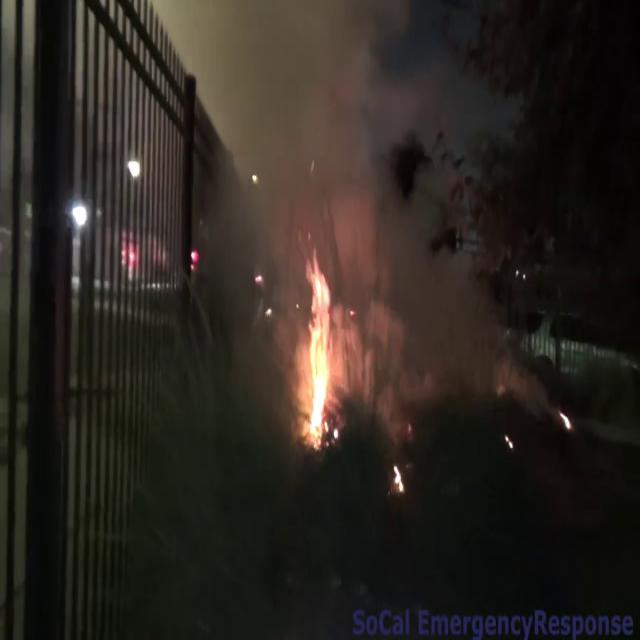Fire: (298, 249, 340, 442)
Smoke: (176, 1, 468, 341)
